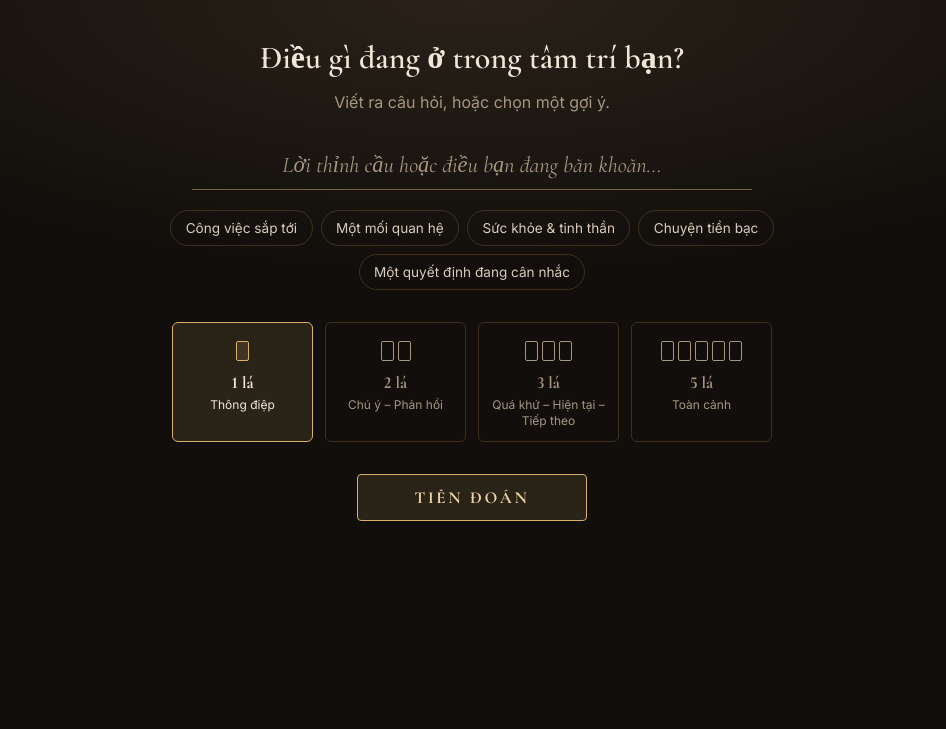
Test: RandomPullTab › rút 3 lá: thu thành dải câu hỏi và hiện 3 lá úp
Type "Công việc sắp tới" into the text box named "Câu hỏi của bạn".
click(472, 165); type("Công việc sắp tới")  # box [192,139,752,190]
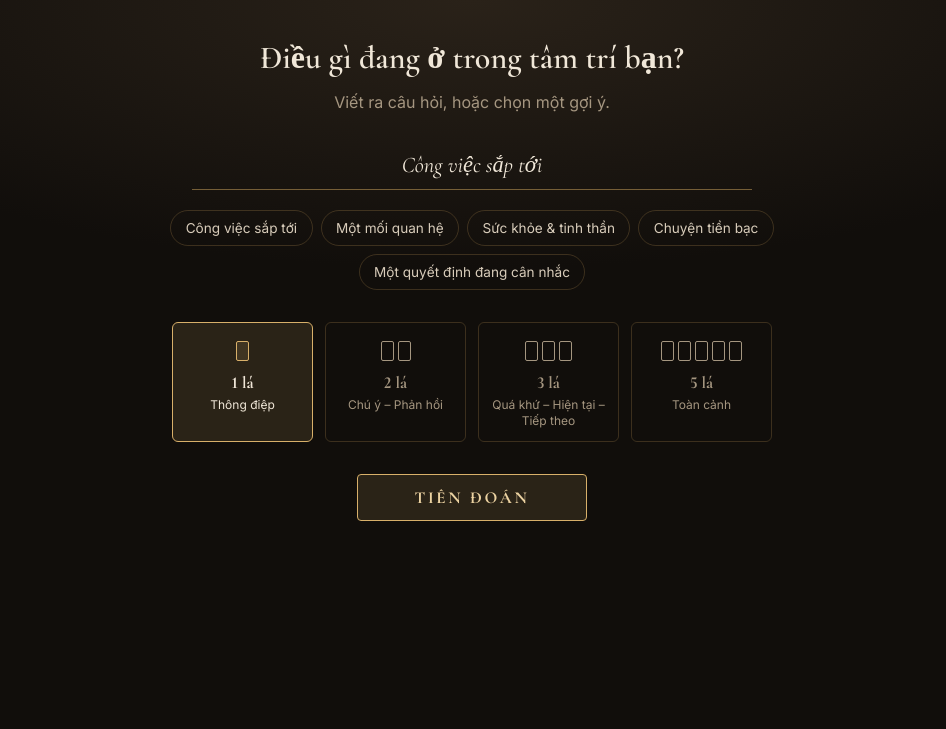
Click the button "3 lá Quá khứ – Hiện tại – Tiếp theo".
click(548, 382)  # box [478,322,619,442]
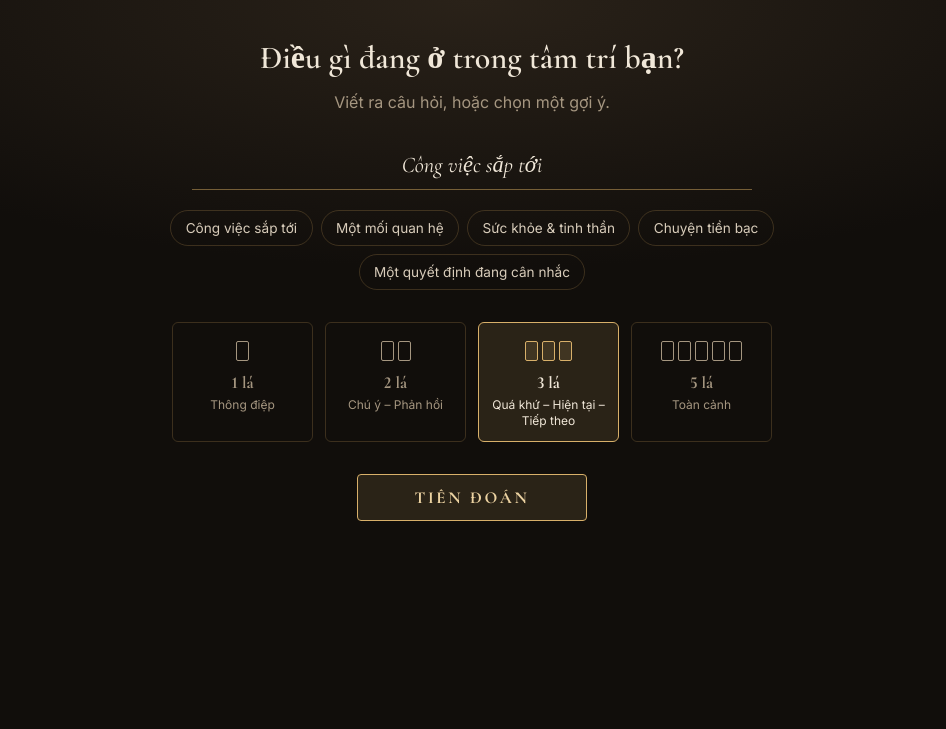
Click the button "Tiên đoán".
click(472, 497)  # box [358,474,587,520]
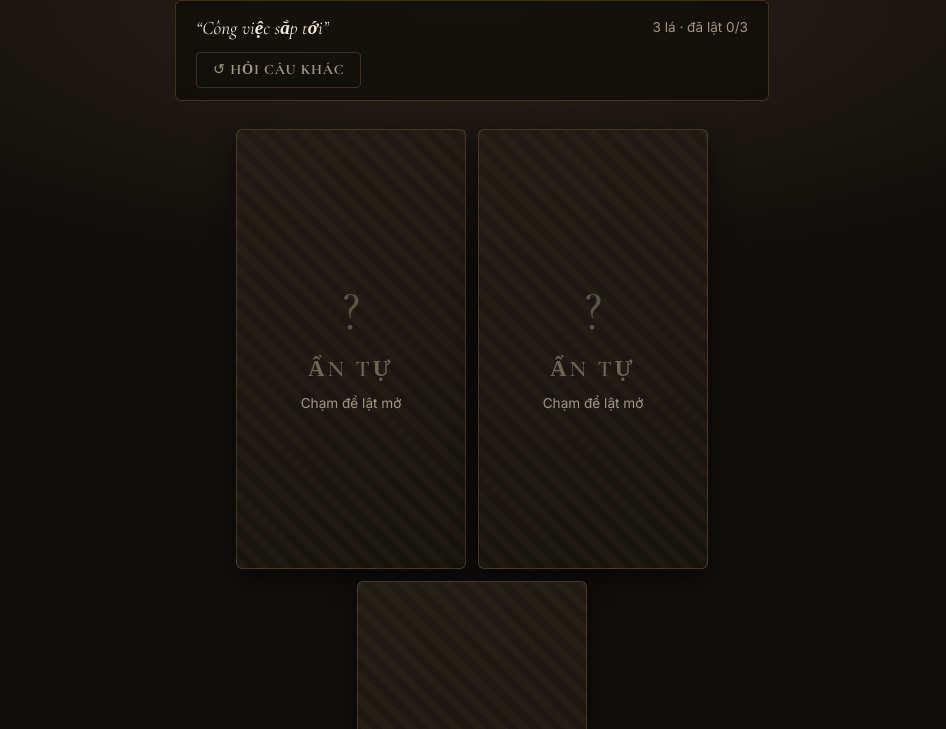
Expected: the text "“Công việc sắp tới”" is shown, [196,13,329,44]
Expected: the text "3 lá · đã lật 0/3" is shown, [652,18,748,39]
